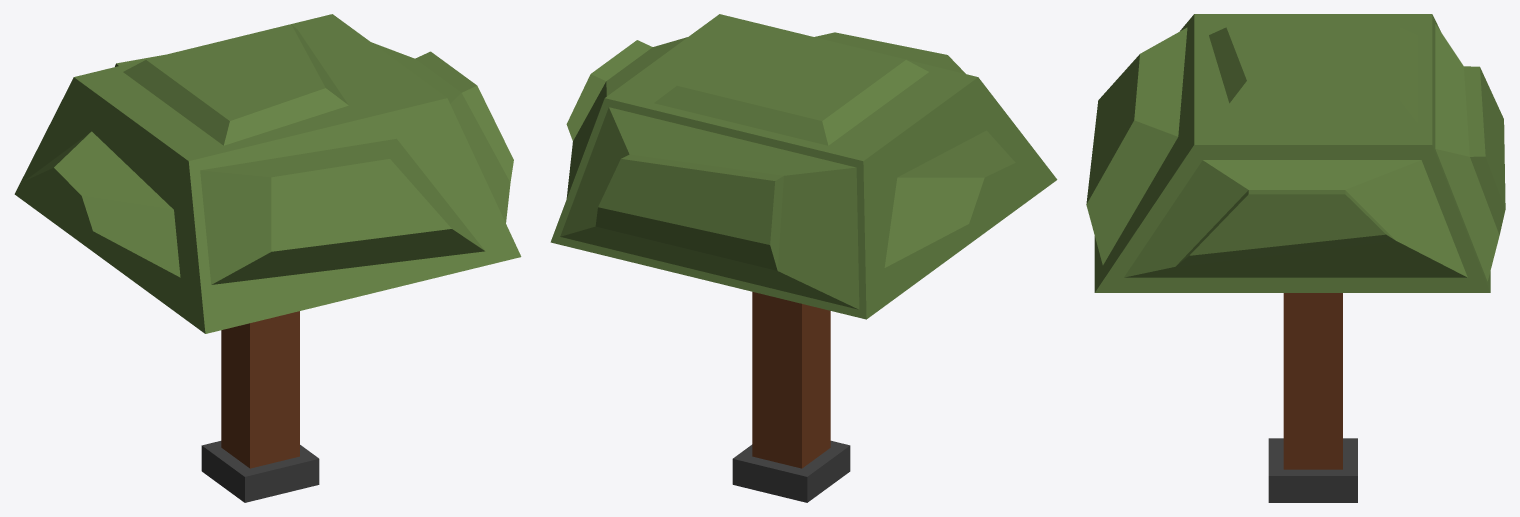
The model's file is Tree03.fbx.
3 renders of one model, left to right at view 1: azimuth 30°, elevation 25°; view 2: azimuth 150°, elevation 25°; view 3: azimuth 270°, elevation 25°, orthographic. The views are drawn at different scales.
Parts seen in each view (by area): view 1: Tree02; view 2: Tree02; view 3: Tree02.
Boxes of the visible parts, <box> form: Tree02: <box>14,14,521,502</box>; Tree02: <box>550,14,1057,502</box>; Tree02: <box>1086,14,1505,502</box>.
Size of the model in its own units: 322 by 311 by 282.
